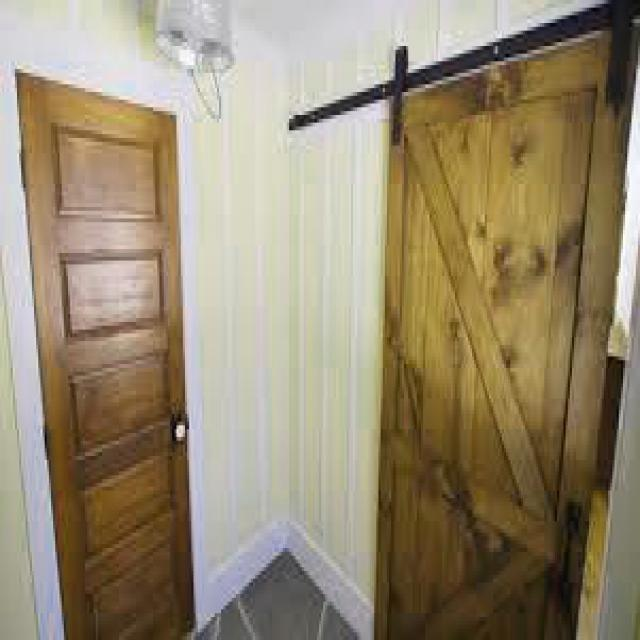door: (15, 69, 193, 638)
